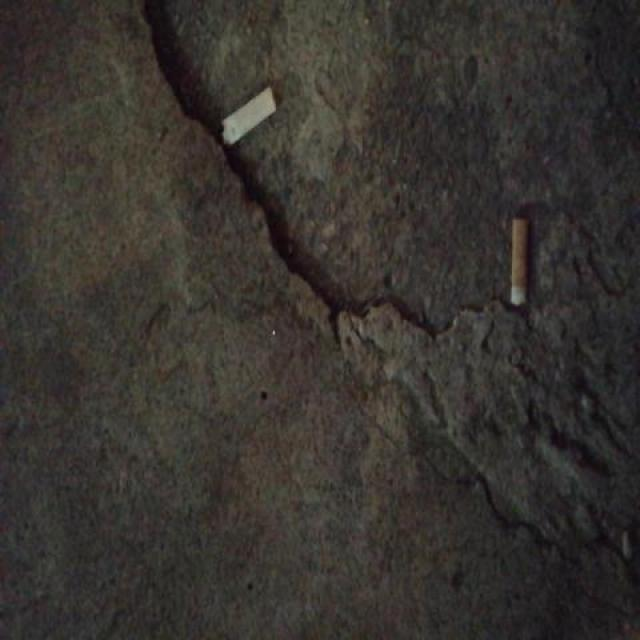non-organic waste: (217, 82, 279, 153), (507, 214, 533, 309)
